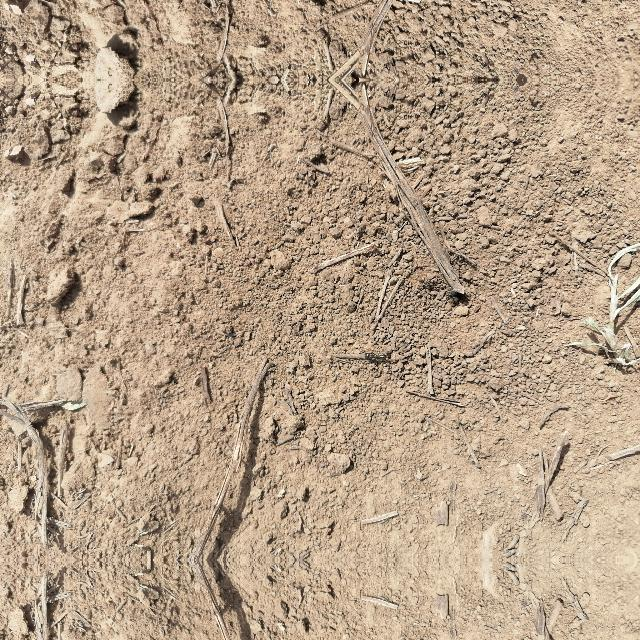Cataglyphis: (363, 349, 389, 365)
